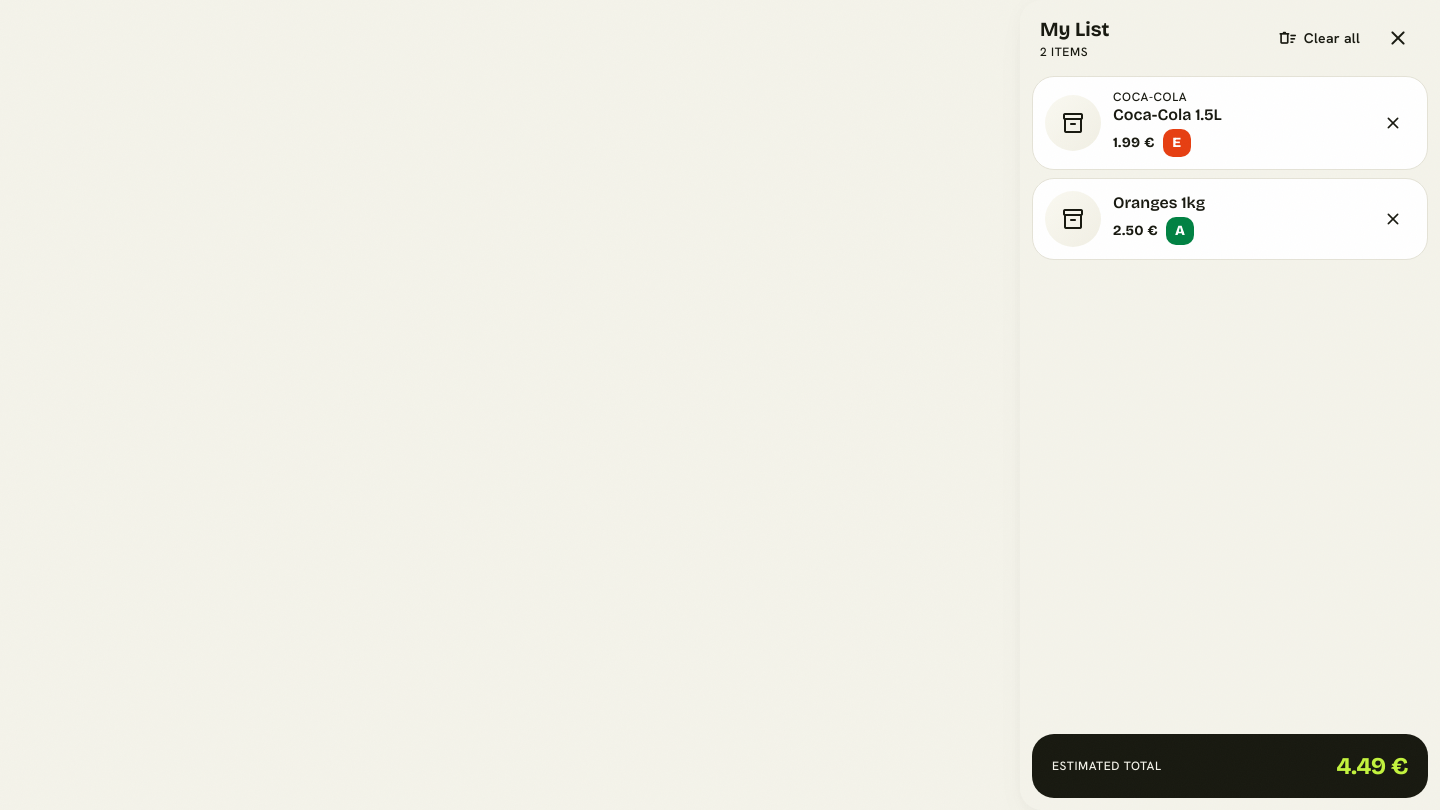
Test case: MyListSheet › removes an item when its remove button is clicked
Click the button named "remove coca-cola 1.5l": (1393, 123) [1371,101,1415,145]
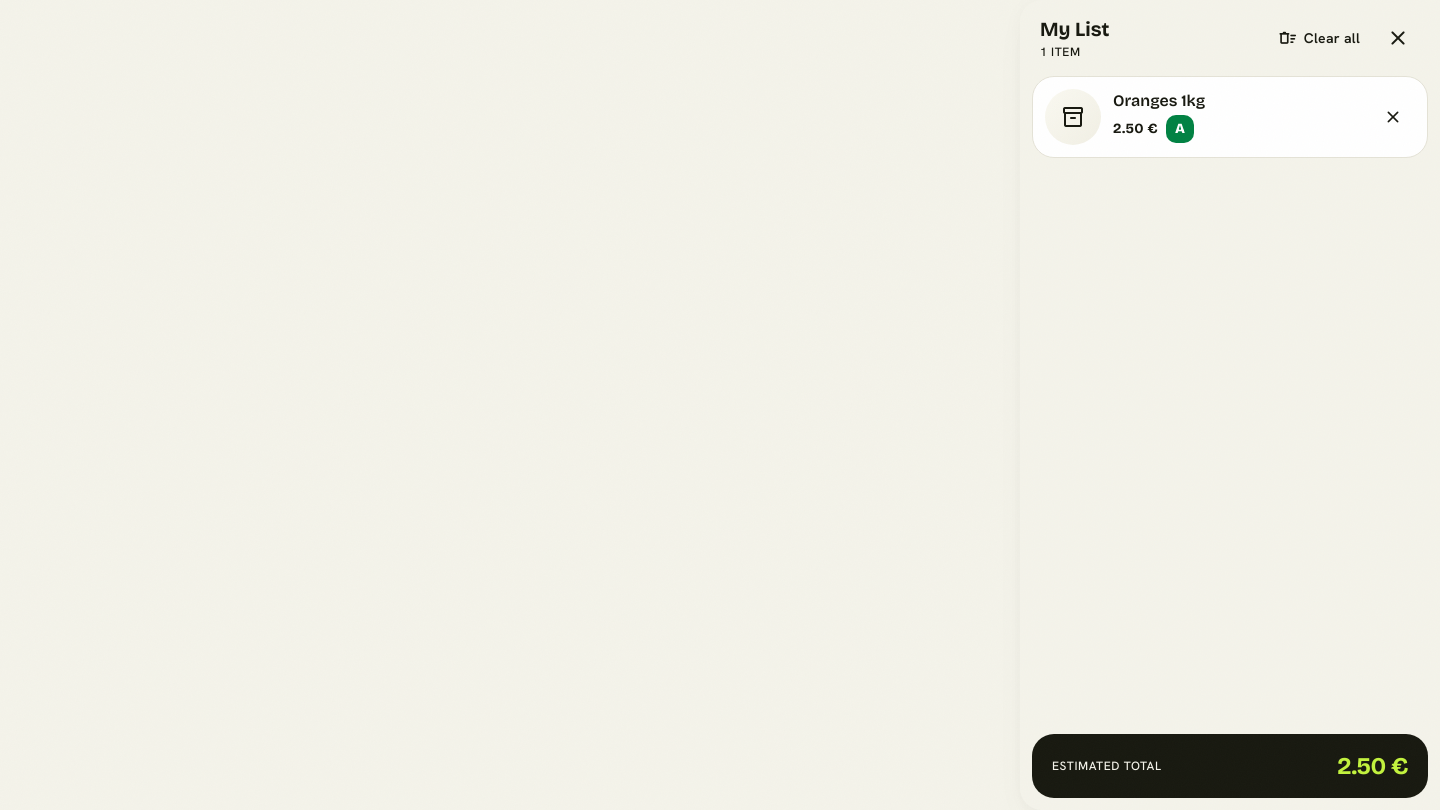
Expected: the link "Coca-Cola 1.5L" is gone
Expected: the text "1 item" is shown, [1040,44,1081,60]
